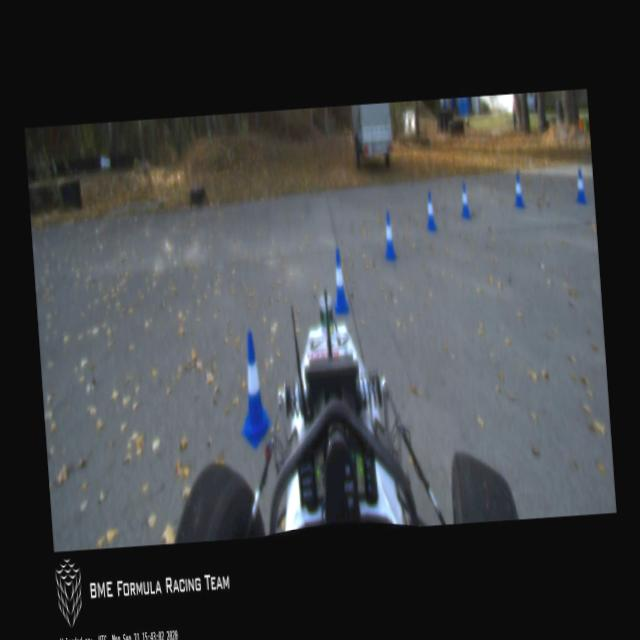blue_cone: (234, 330, 272, 450), (330, 248, 350, 314), (381, 211, 397, 260), (424, 191, 436, 230), (573, 167, 586, 202), (458, 183, 470, 218), (512, 171, 524, 206)
